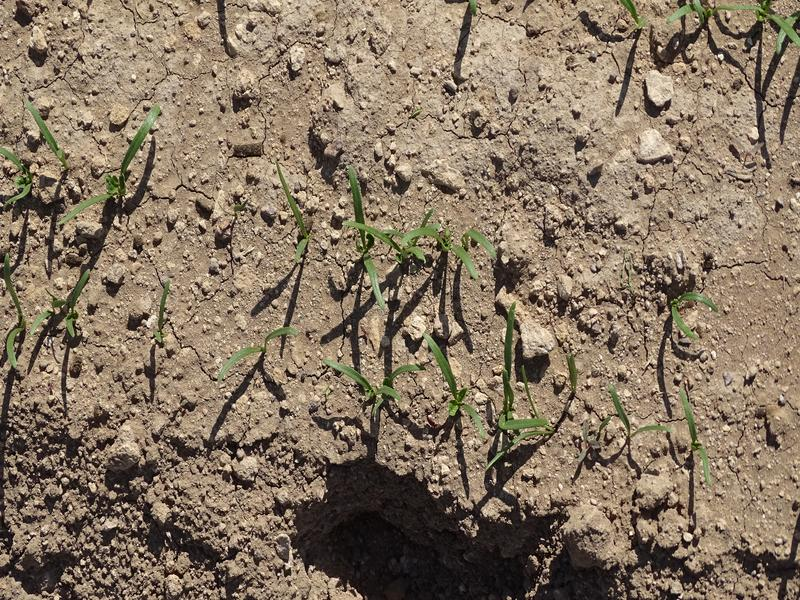Espinaca: (338, 173, 493, 287), (425, 323, 546, 456), (62, 108, 164, 225), (674, 1, 799, 58), (322, 357, 417, 406), (222, 324, 303, 377), (38, 266, 96, 337), (273, 169, 315, 266), (681, 389, 714, 484), (606, 381, 659, 436), (1, 139, 36, 201), (4, 253, 21, 372), (669, 291, 707, 339), (32, 99, 57, 162), (151, 277, 170, 342)
